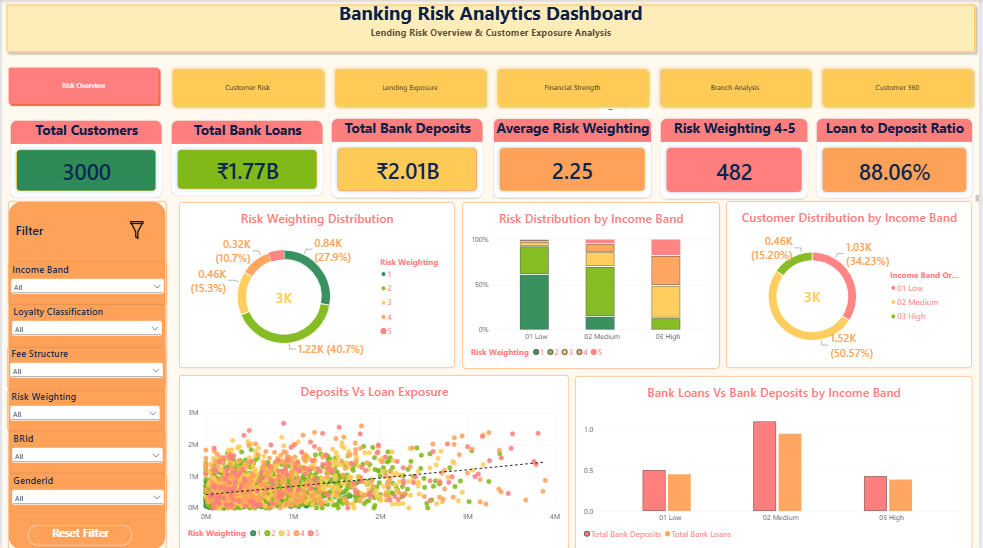

The dashboard page shown, as its layout file describes it:
{"tool":"powerbi","page":{"name":"Risk Overview","canvas":[1920,1080],"ordinal":0},"visuals":[{"type":"shape","box":[0,0,1920,111.5],"z":0},{"type":"textbox","box":[10.1,383,1909.9,12.6],"z":1000},{"type":"textbox","box":[0,0,1920,52],"z":2000},{"type":"textbox","box":[0,51.6,1920,61.9],"z":3000},{"type":"shape","box":[12,394,310.6,685.2],"z":4000},{"type":"textbox","box":[14.5,417,154.8,66.1],"z":5000},{"type":"slicer","fields":{"Values":["Banking.Loyalty Classification"]},"box":[14,596,306,84],"z":6000},{"type":"slicer","fields":{"Values":["Banking.Fee Structure"]},"box":[10.3,679.2,311.7,84.6],"z":7000},{"type":"slicer","fields":{"Values":["Banking.Risk Weighting"]},"box":[10,764,306,82],"z":8000},{"type":"cardVisual","title":"Total Bank Loans","fields":{"Data":["Measure.Total Bank Loans"]},"box":[332.4,235.4,299.4,148.6],"z":9000},{"type":"cardVisual","title":"Total Bank Deposits","fields":{"Data":["Measure.Total Bank Deposits"]},"box":[646.2,231.2,299.4,156.9],"z":10000},{"type":"cardVisual","title":"Average Risk Weighting","fields":{"Data":["Measure.Average Risk Weighting"]},"box":[964.1,231.2,311.7,156.9],"z":11000},{"type":"cardVisual","title":"Risk Weighting 4-5","fields":{"Data":["Measure.Risk 4-5 Records"]},"box":[1292.4,231.2,291.1,159],"z":12000},{"type":"cardVisual","title":"Loan to Deposit Ratio","fields":{"Data":["Measure.Loan to Deposit Ratio"]},"box":[1598,232,308,158],"z":13000},{"type":"pageNavigator","box":[8.3,128,1911.7,88.8],"z":14000},{"type":"cardVisual","title":"Total Customers","fields":{"Data":["Measure.Total Customers"]},"box":[16.5,235.4,299.4,152.8],"z":15000},{"type":"slicer","fields":{"Values":["Banking.Income Band"]},"box":[12,514,312.2,82.5],"z":16000},{"type":"slicer","fields":{"Values":["Banking.BRId"]},"box":[14,846,308,82],"z":17000},{"type":"slicer","fields":{"Values":["Banking.GenderId"]},"box":[14,928,309.7,76.4],"z":18000},{"type":"donutChart","title":"Risk Weighting Distribution","fields":{"Category":["Banking.Risk Weighting"],"Y":["CountNonNull(Banking.Client ID)"]},"box":[346.8,396.4,540.9,326.2],"z":19000},{"type":"hundredPercentStackedColumnChart","title":"Risk Distribution by Income Band","fields":{"Category":["Banking.Income Band Ordered"],"Series":["Banking.Risk Weighting"],"Y":["Measure.Total Customers"]},"box":[902.9,395.7,505.7,327.1],"z":20000},{"type":"donutChart","title":"Customer Distribution by Income Band","fields":{"Category":["Banking.Income Band Ordered"],"Y":["Measure.Total Customers"]},"box":[1422.5,394.3,483.1,328.3],"z":21000},{"type":"clusteredColumnChart","title":"Bank Loans Vs Bank Deposits by Income Band","fields":{"Category":["Banking.Income Band Ordered"],"Y":["Measure.Total Bank Deposits","Measure.Total Bank Loans"]},"box":[1126,738,780,342],"z":22000},{"type":"scatterChart","title":"Deposits Vs Loan Exposure","fields":{"Series":["Banking.Risk Weighting"],"X":["Banking.Bank Deposits"],"Y":["Banking.Bank Loans"]},"box":[346.8,737,765.9,342.7],"z":23000},{"type":"actionButton","title":"Reset Filter","box":[51.4,1030,204.3,40],"z":24000},{"type":"image","box":[234,434,62,36],"z":25000}]}

Visuals, with their boxes in screenshot pixels (x1, y1, x2, y2), scaled from the page's 1920x1080 canvas onto the 983x548 screenshot:
shape: <region>0, 0, 982, 57</region>
textbox: <region>5, 194, 982, 201</region>
textbox: <region>0, 0, 982, 26</region>
textbox: <region>0, 26, 982, 58</region>
shape: <region>6, 200, 165, 547</region>
textbox: <region>7, 212, 87, 245</region>
slicer - Banking.Loyalty Classification: <region>7, 302, 164, 345</region>
slicer - Banking.Fee Structure: <region>5, 345, 165, 388</region>
slicer - Banking.Risk Weighting: <region>5, 388, 162, 429</region>
"Total Bank Loans" cardVisual: <region>170, 119, 323, 195</region>
"Total Bank Deposits" cardVisual: <region>331, 117, 484, 197</region>
"Average Risk Weighting" cardVisual: <region>494, 117, 653, 197</region>
"Risk Weighting 4-5" cardVisual: <region>662, 117, 811, 198</region>
"Loan to Deposit Ratio" cardVisual: <region>818, 118, 976, 198</region>
pageNavigator: <region>4, 65, 982, 110</region>
"Total Customers" cardVisual: <region>8, 119, 162, 197</region>
slicer - Banking.Income Band: <region>6, 261, 166, 303</region>
slicer - Banking.BRId: <region>7, 429, 165, 471</region>
slicer - Banking.GenderId: <region>7, 471, 166, 510</region>
"Risk Weighting Distribution" donutChart: <region>178, 201, 454, 367</region>
"Risk Distribution by Income Band" hundredPercentStackedColumnChart: <region>462, 201, 721, 367</region>
"Customer Distribution by Income Band" donutChart: <region>728, 200, 976, 367</region>
"Bank Loans Vs Bank Deposits by Income Band" clusteredColumnChart: <region>576, 374, 976, 547</region>
"Deposits Vs Loan Exposure" scatterChart: <region>178, 374, 570, 547</region>
"Reset Filter" actionButton: <region>26, 523, 131, 543</region>
image: <region>120, 220, 152, 238</region>
